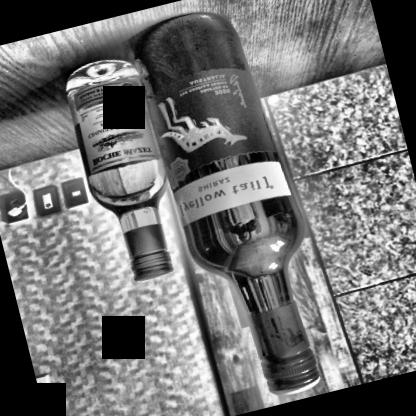yellowtail: (145, 48, 286, 227)
